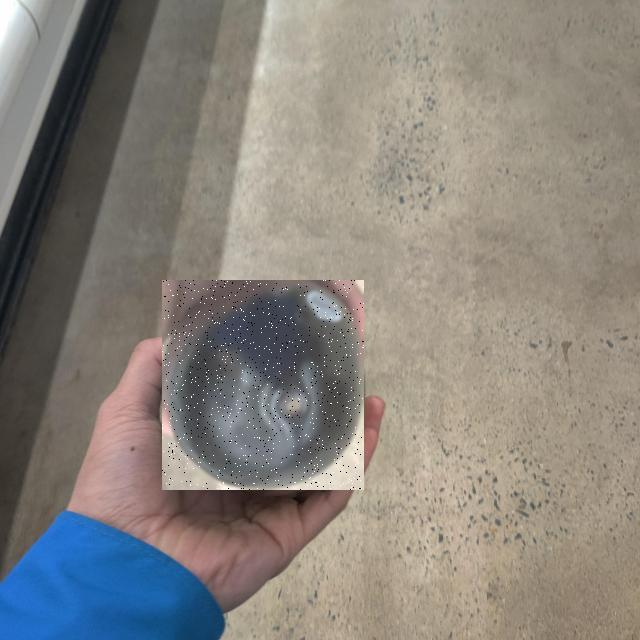Egg Plant: (162, 280, 364, 490)
